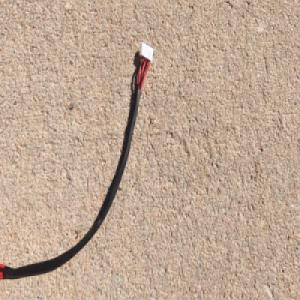Wire: (17, 45, 157, 283)
